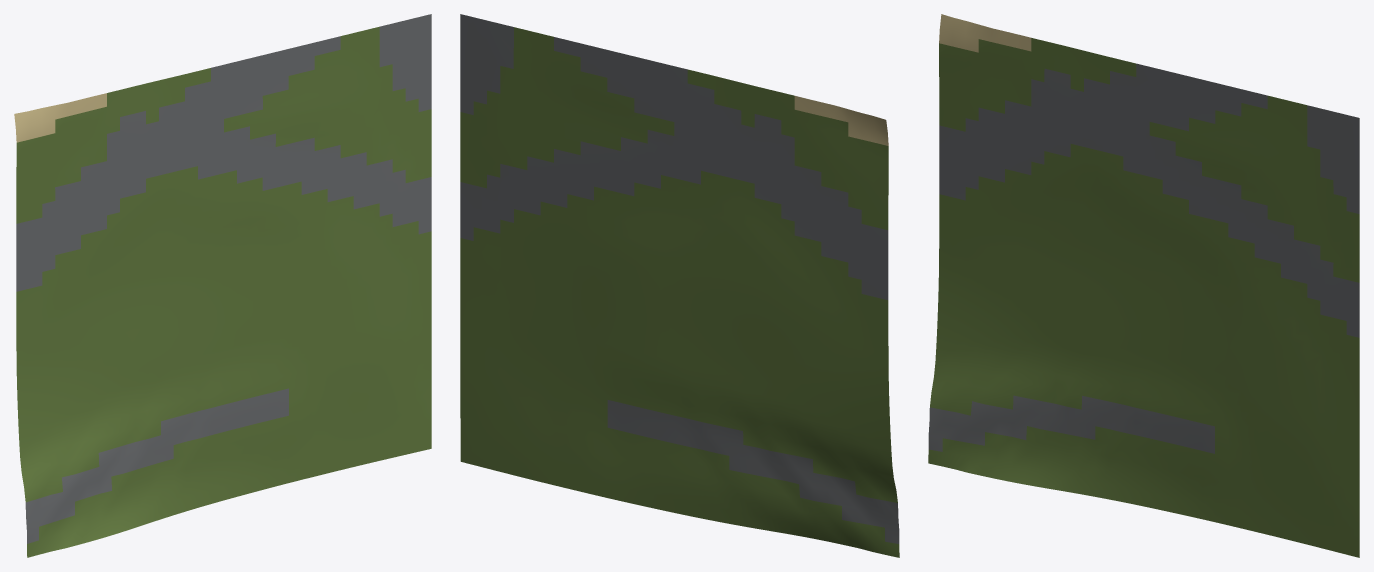
The model's file is island_terrain_03_06.obj.
The picture shows the model from 3 angles, left to right: view 1: azimuth 30°, elevation 25°; view 2: azimuth 150°, elevation 25°; view 3: azimuth 330°, elevation 25°; orthographic projection. The views are drawn at different scales.
Parts seen in each view (by area): view 1: island_terrain_03_06; view 2: island_terrain_03_06; view 3: island_terrain_03_06.
Boxes of the visible parts, bbox=[...] form: island_terrain_03_06: bbox=[14, 14, 431, 557]; island_terrain_03_06: bbox=[460, 14, 899, 557]; island_terrain_03_06: bbox=[928, 14, 1359, 557].
Size of the model in its own units: 256 by 256 by 13.81.
